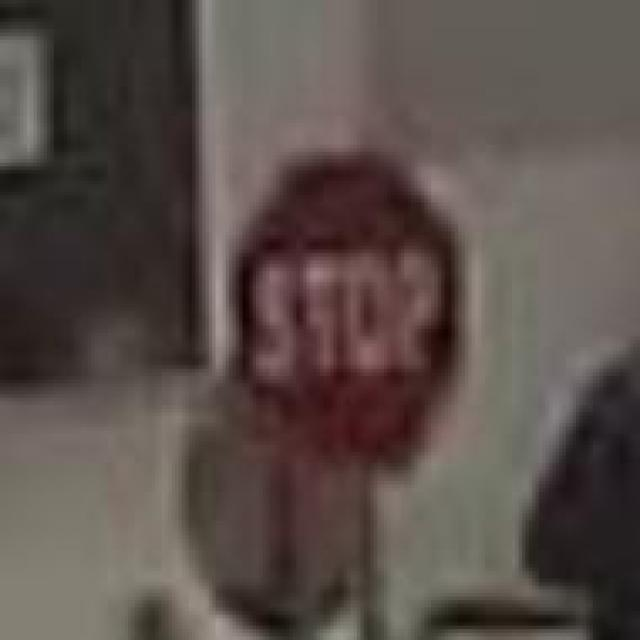traffic sign: (236, 152, 455, 470)
